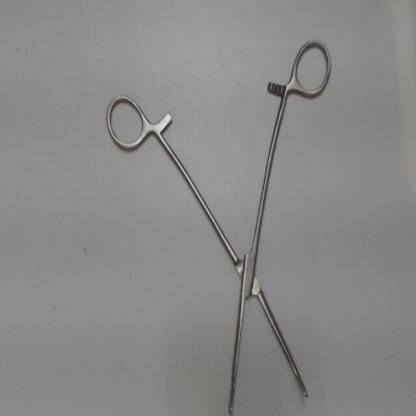Lahey Forceps: (92, 31, 336, 414)
